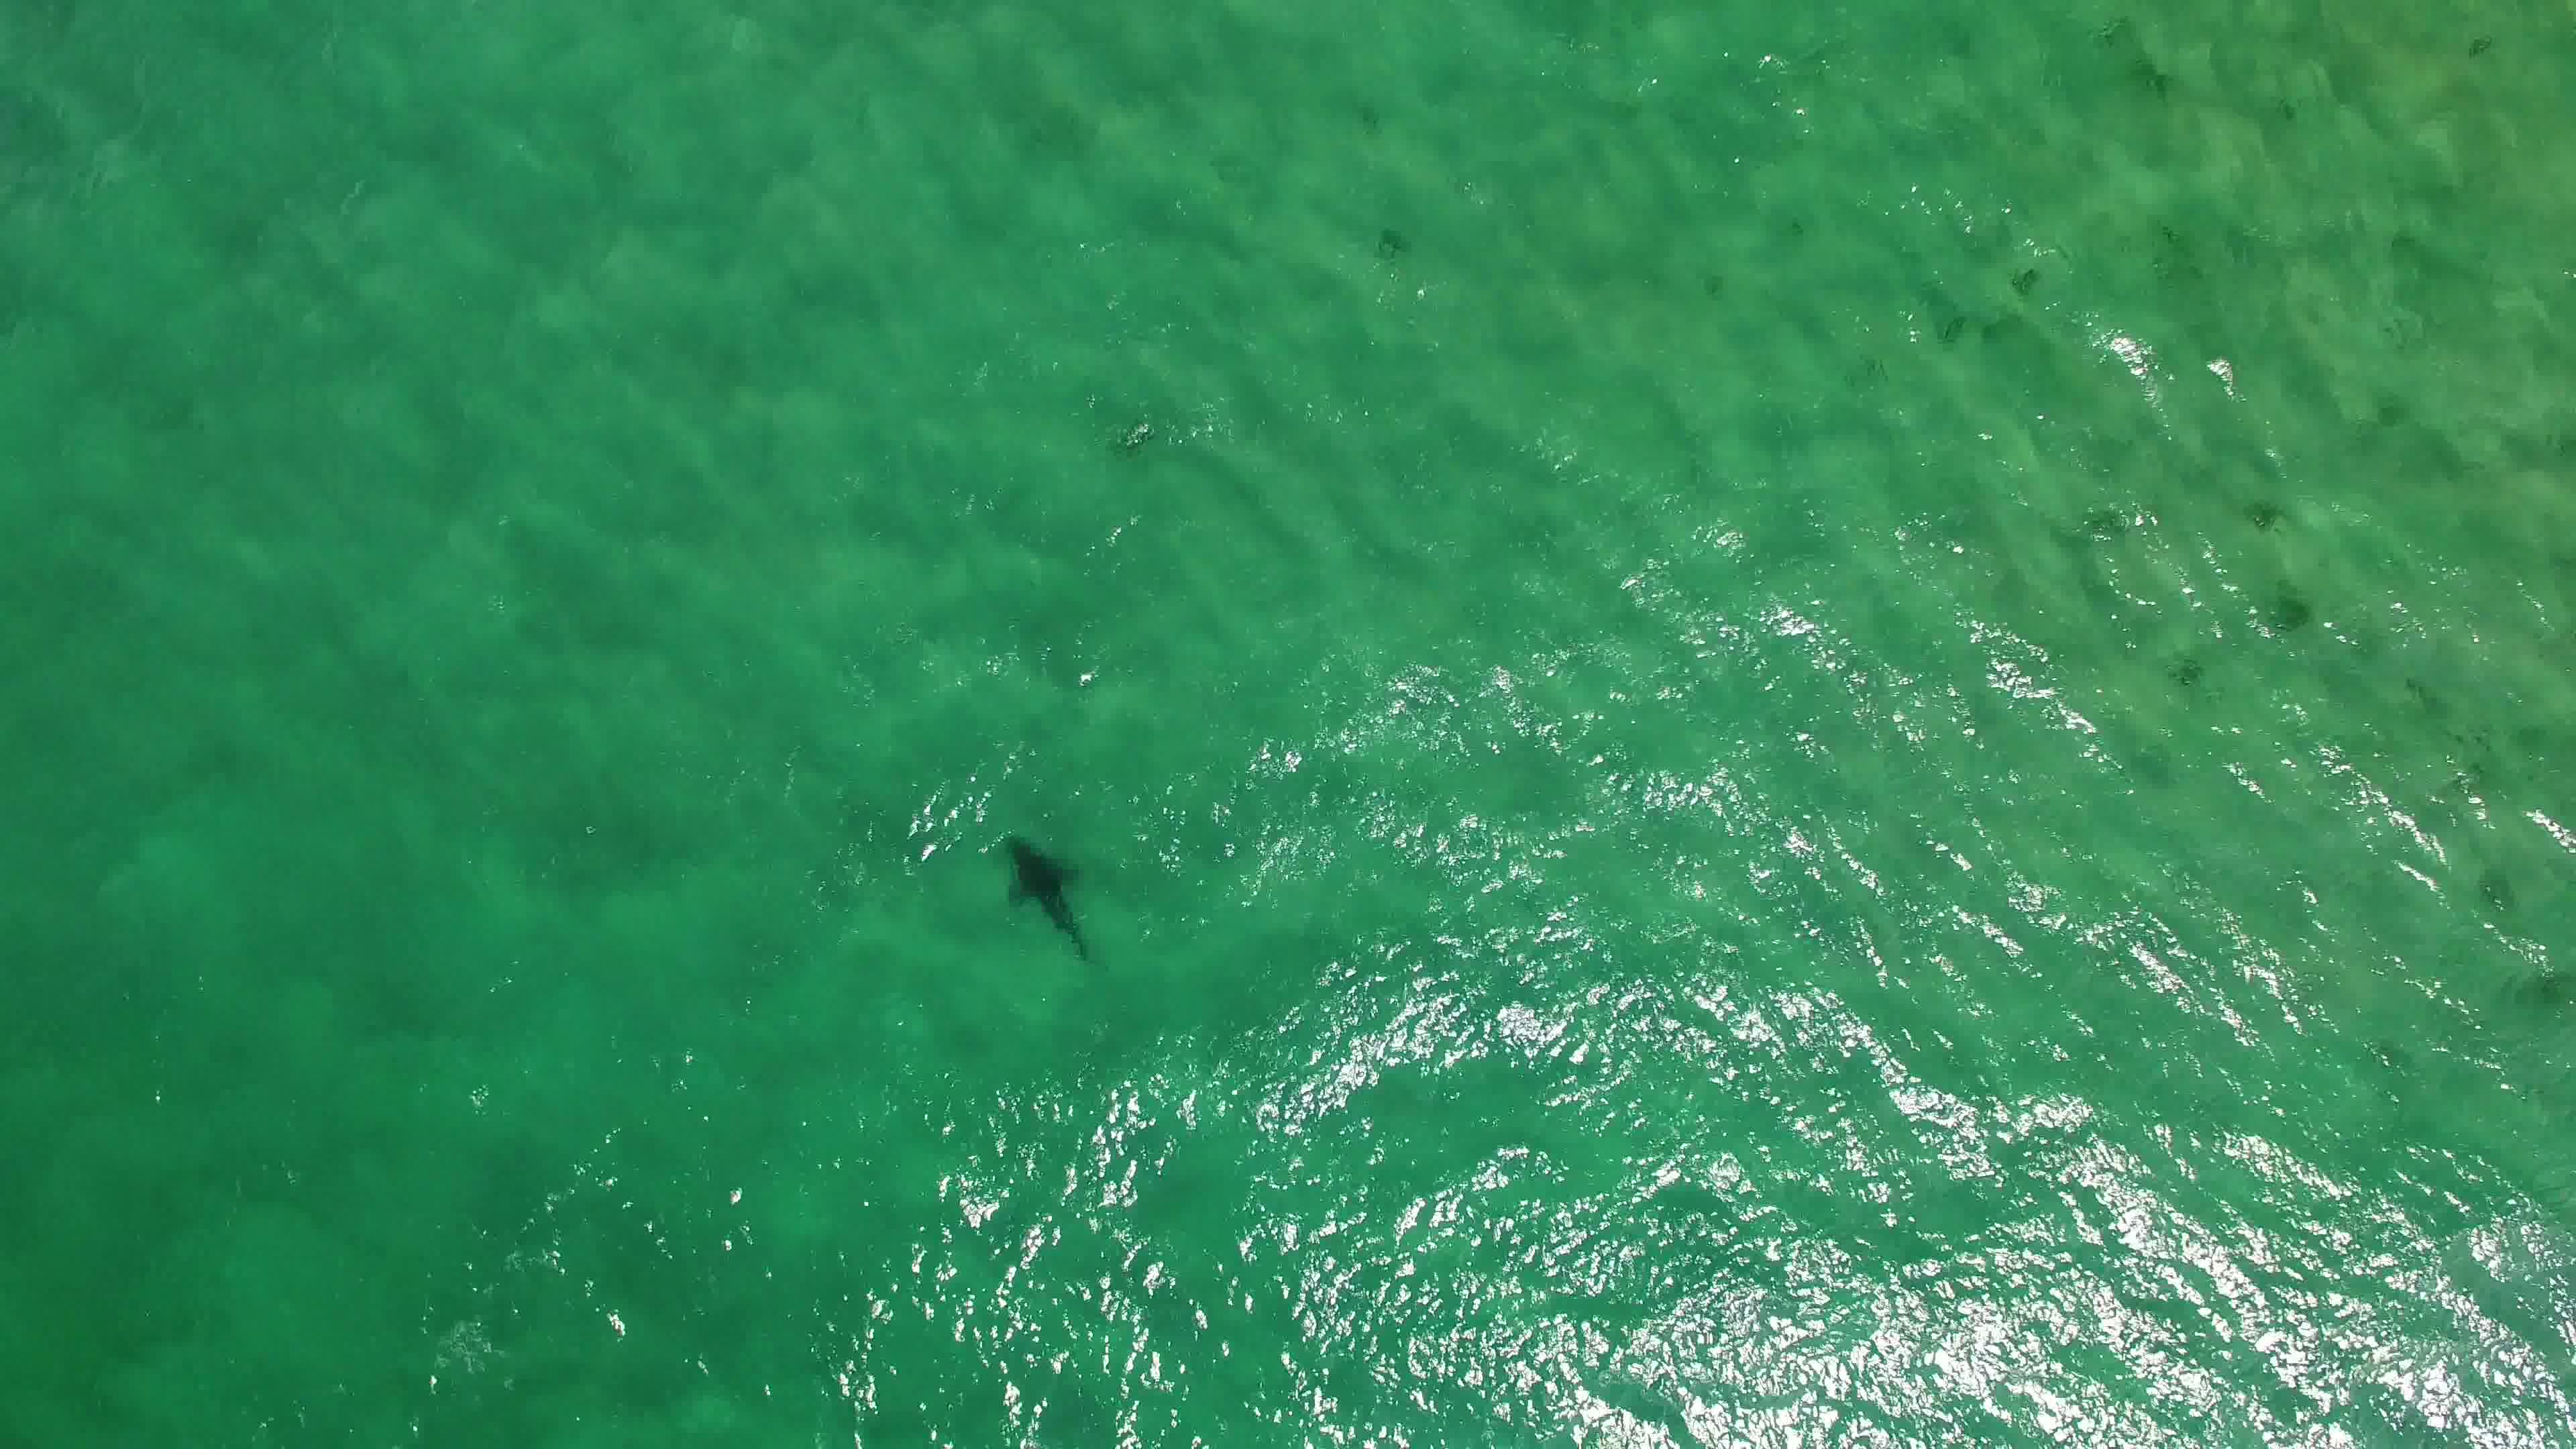shark: (994, 830, 1111, 975)
